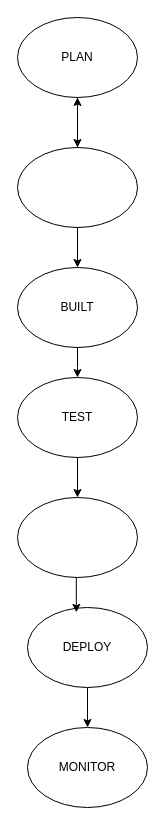
Some shapes in this 165 by 825 pixel diagram are drawn without their labels. The box of each missing label's shape, as (x1, y1, x2, y2) in pixels:
DEVELOP: (16, 146, 138, 228)
RELEASE: (16, 496, 138, 578)
